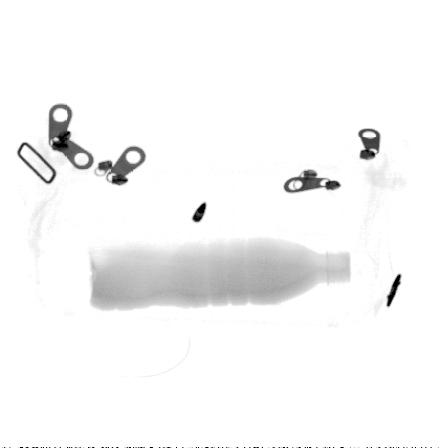Bullet: (191, 201, 207, 222)
